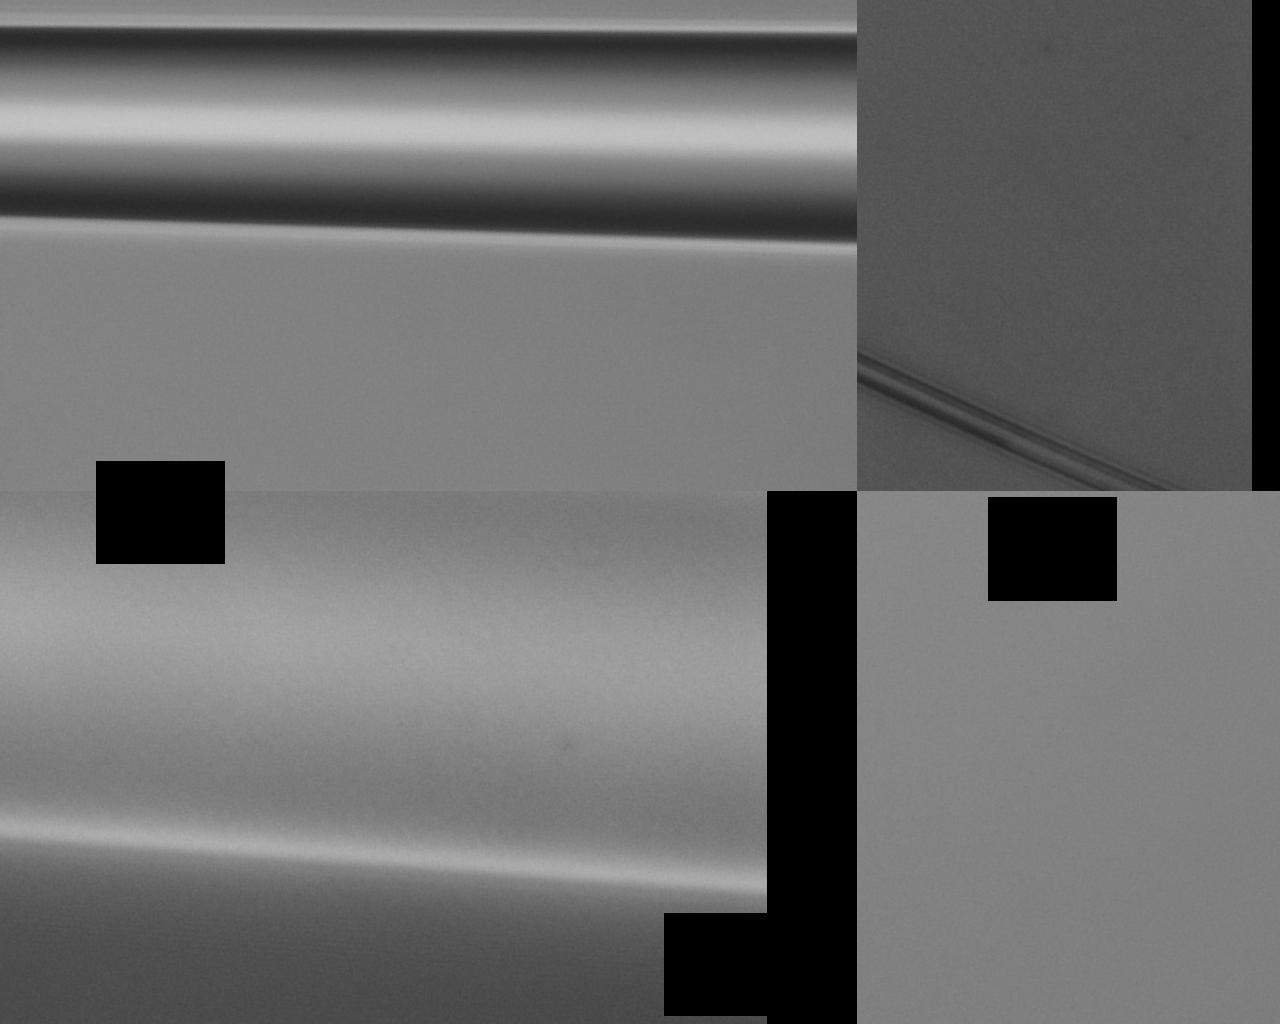fiber: (127, 726, 1151, 1024)
